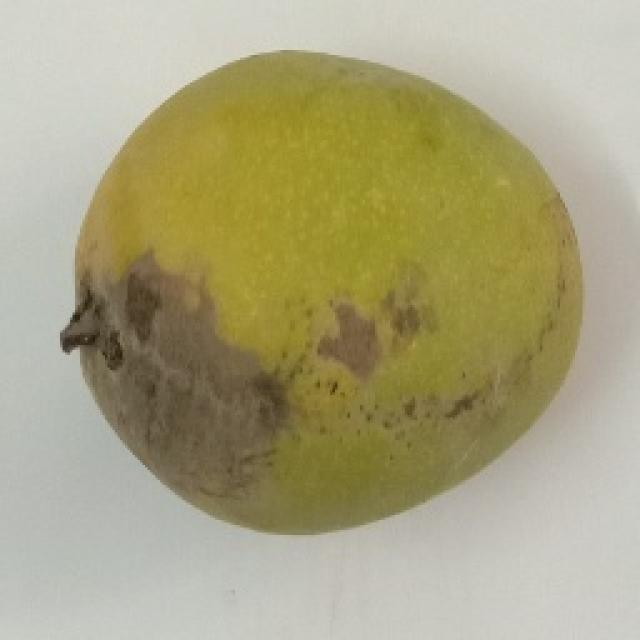defective: (58, 45, 585, 535)
